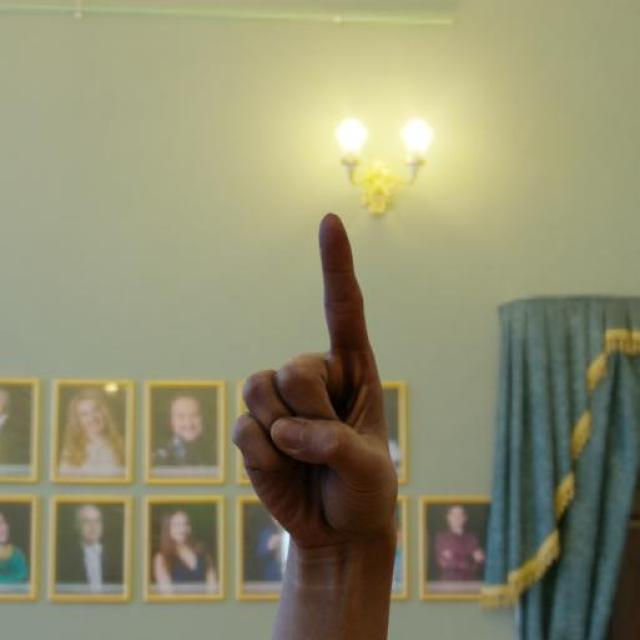Z: (227, 203, 401, 552)
